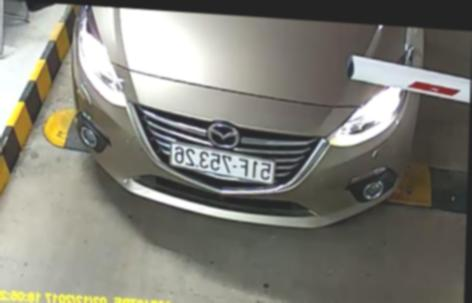License_Plate: (168, 142, 278, 185)
